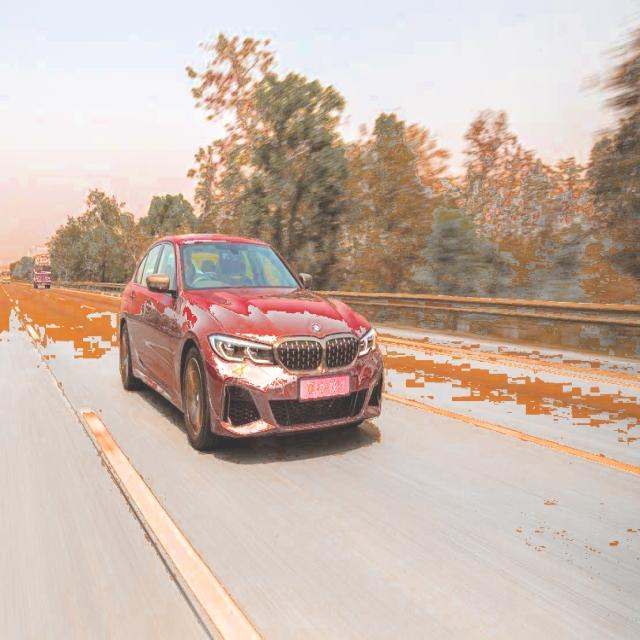maroon: (118, 183, 392, 475)
